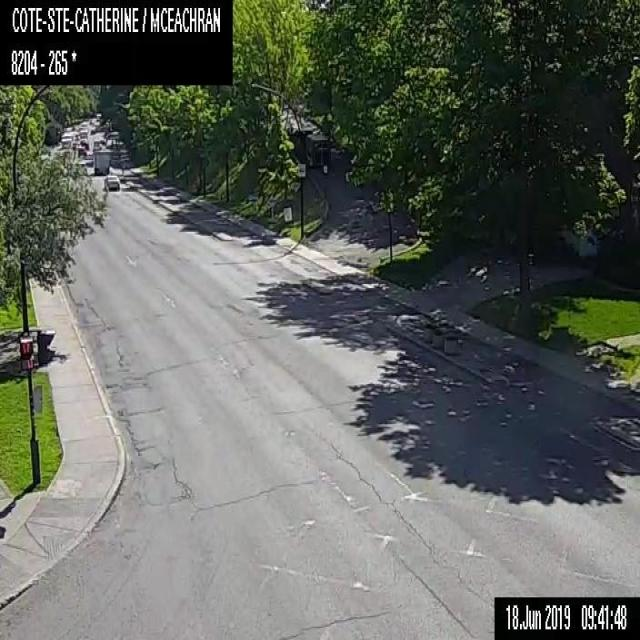vehicle: (286, 124, 331, 166), (93, 148, 110, 174), (104, 173, 119, 191), (77, 145, 87, 156), (78, 128, 88, 137), (78, 121, 88, 130), (92, 138, 100, 149), (80, 138, 88, 148), (72, 140, 79, 149), (99, 135, 106, 144), (74, 132, 79, 140)
